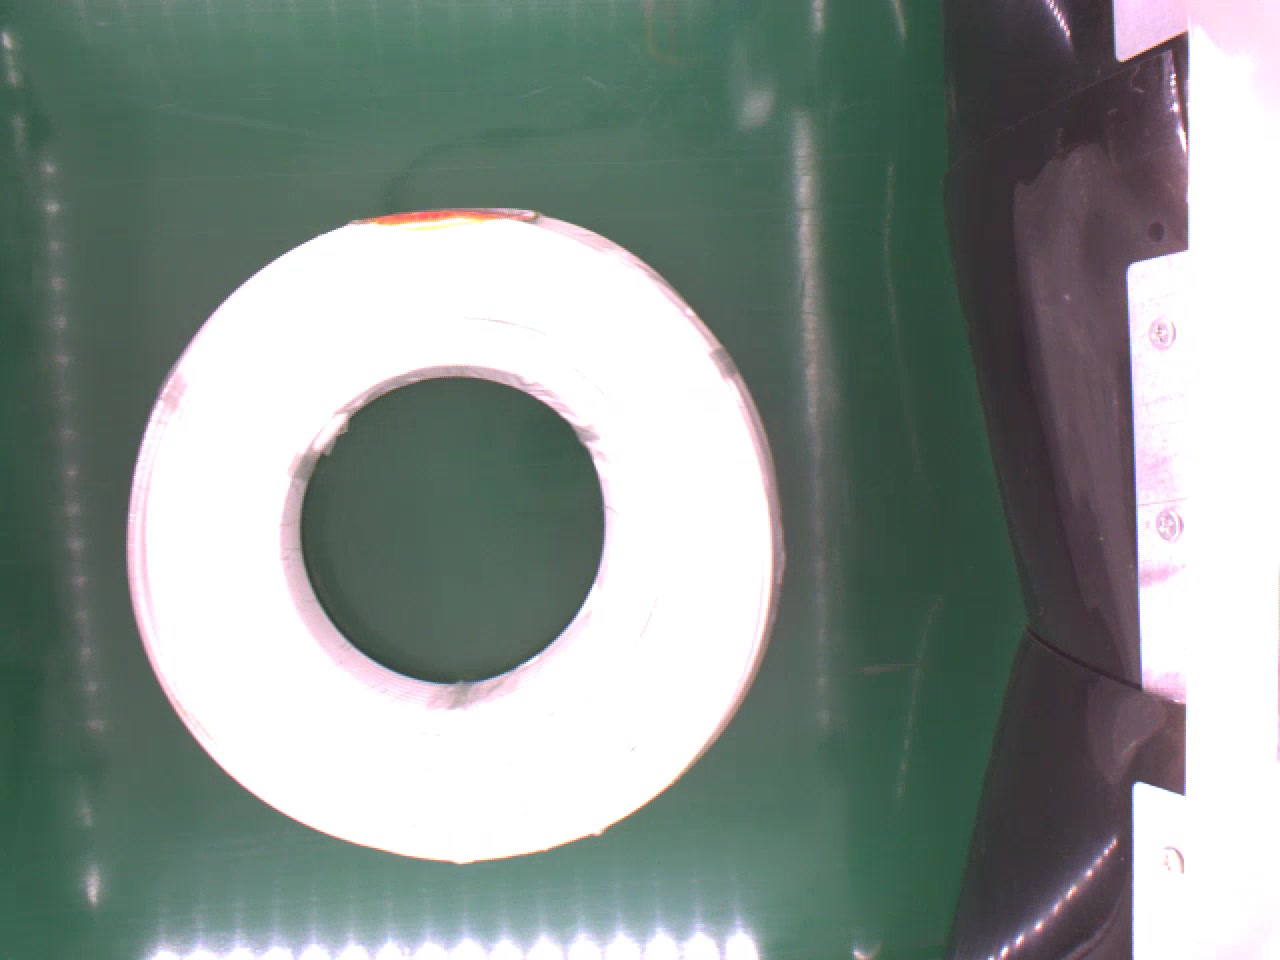white: (124, 199, 786, 865)
